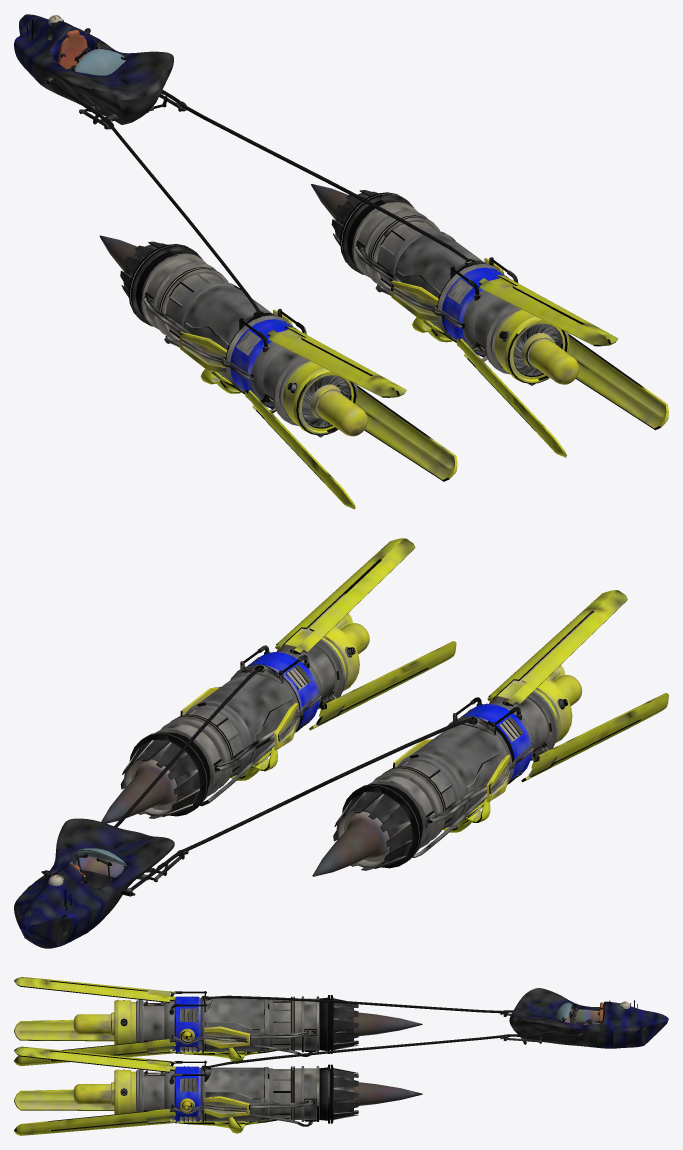
File: skybolt-hero-v1.glb
3 views of the same model, one above another, from view 1: azimuth 30°, elevation 25°; view 2: azimuth 150°, elevation 25°; view 3: azimuth 270°, elevation 25° (orthographic). The views are drawn at different scales.
Parts seen in each view (by area): view 1: skybolt-body-0; view 2: skybolt-body-0; view 3: skybolt-body-0.
Part boxes in pixels (<box>): skybolt-body-0: <box>14,14,668,509</box>; skybolt-body-0: <box>14,538,668,948</box>; skybolt-body-0: <box>14,977,668,1135</box>.
Bounding box in the file's own units: 9.32 × 3.88 × 24.
7 materials, 7 textured.
